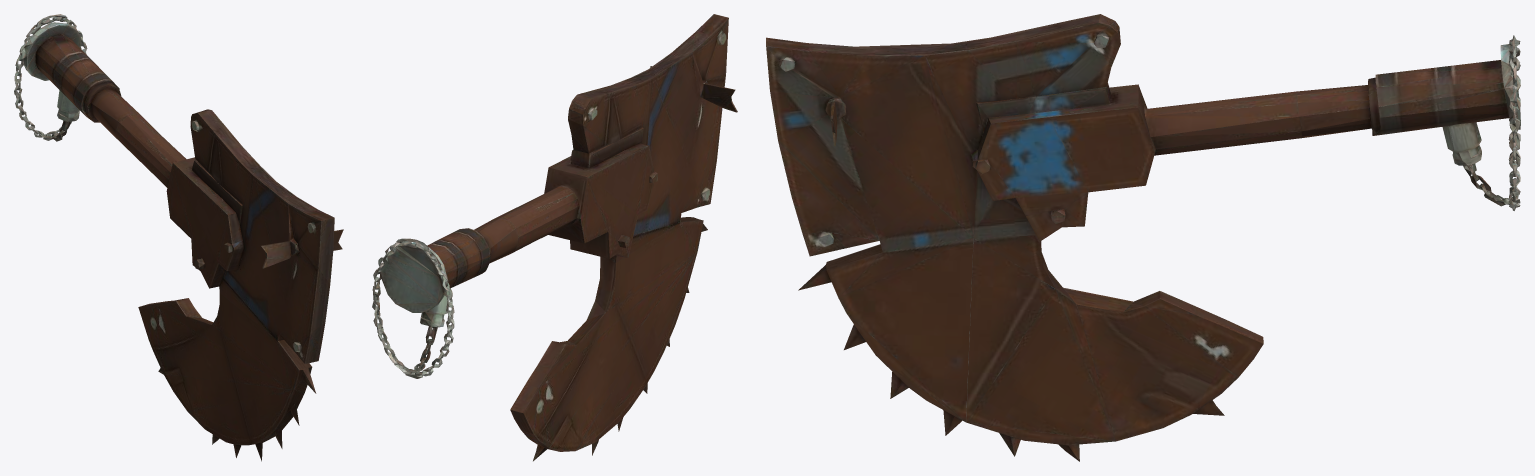
Rendered from scie-meshy.glb.
The picture shows the model from 3 angles, left to right: view 1: azimuth 30°, elevation 25°; view 2: azimuth 150°, elevation 25°; view 3: azimuth 270°, elevation 25°; orthographic projection. The views are drawn at different scales.
Visible parts, largest first — view 1: Mesh_0; view 2: Mesh_0; view 3: Mesh_0.
Boxes of the visible parts, <box> form: Mesh_0: <box>14,14,343,461</box>; Mesh_0: <box>372,14,737,461</box>; Mesh_0: <box>766,14,1520,461</box>.
Bounding box in the file's own units: 0.198 × 0.7782 × 1.2.
Materials: 1 (1 with a texture image).
